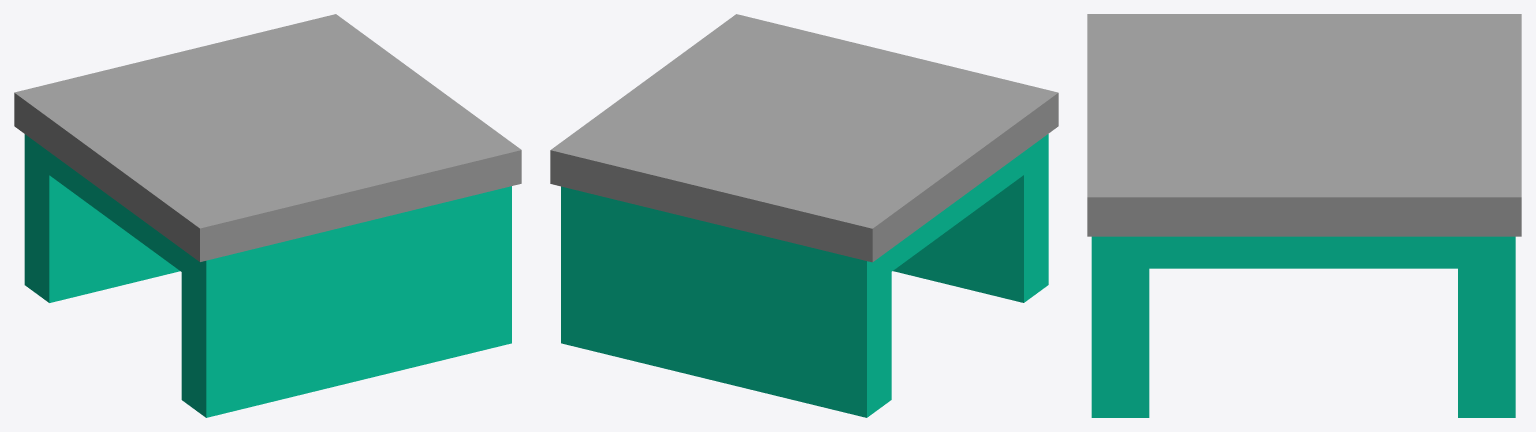
File: bed.fbx
3 renders of one model, left to right at view 1: azimuth 30°, elevation 25°; view 2: azimuth 150°, elevation 25°; view 3: azimuth 270°, elevation 25°, orthographic. The views are drawn at different scales.
Parts seen in each view (by area): view 1: Bed; view 2: Bed; view 3: Bed.
Boxes of the visible parts, bbox=[...] form: Bed: bbox=[14, 14, 521, 417]; Bed: bbox=[550, 14, 1058, 417]; Bed: bbox=[1087, 14, 1521, 417].
Size of the model in its own units: 5.27 by 3.01 by 5.27.
